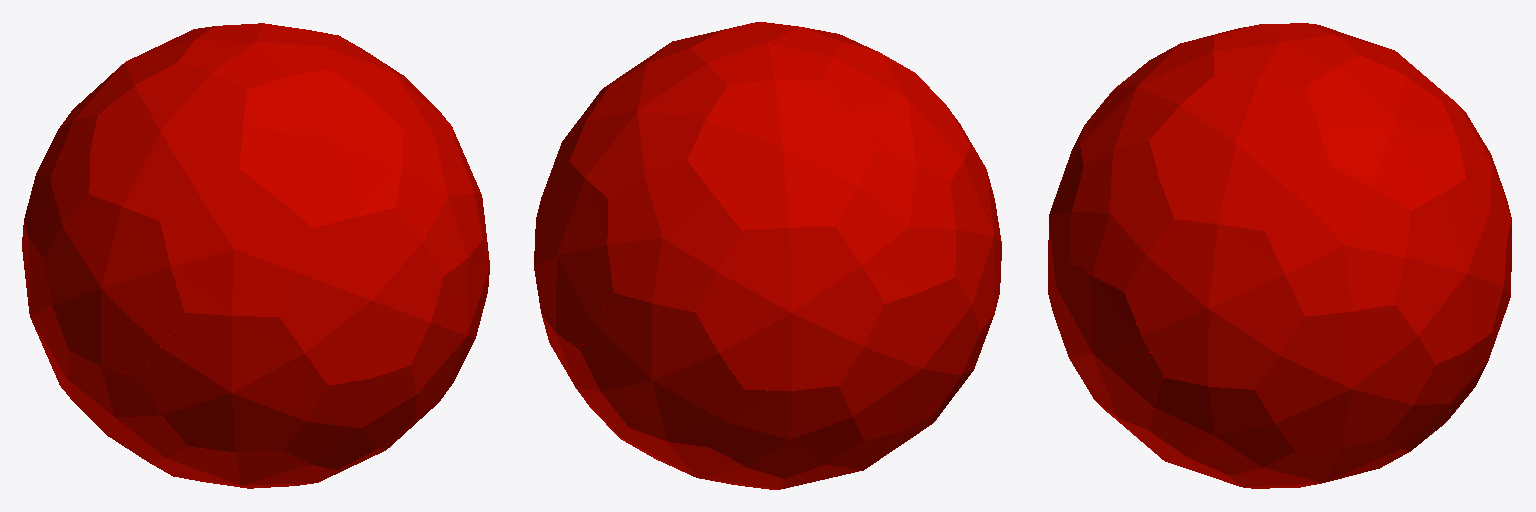
The model's file is red_ball.obj.
3 views of the same model, side by side, from view 1: azimuth 30°, elevation 25°; view 2: azimuth 150°, elevation 25°; view 3: azimuth 270°, elevation 25° (orthographic).
Visible parts, largest first — view 1: body; view 2: body; view 3: body.
Part boxes in pixels (x1,y1,x2,y2): body: (22,23,489,488); body: (534,22,1001,489); body: (1048,23,1511,488).
Bounding box in the file's own units: 4.8 × 4.8 × 4.72.